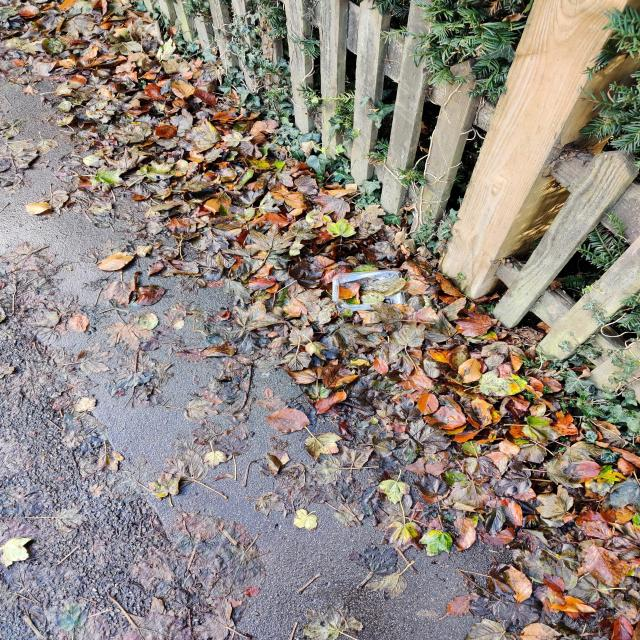litter: (331, 269, 407, 311)
